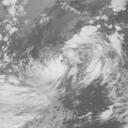cyclone: (5, 28, 119, 124)
